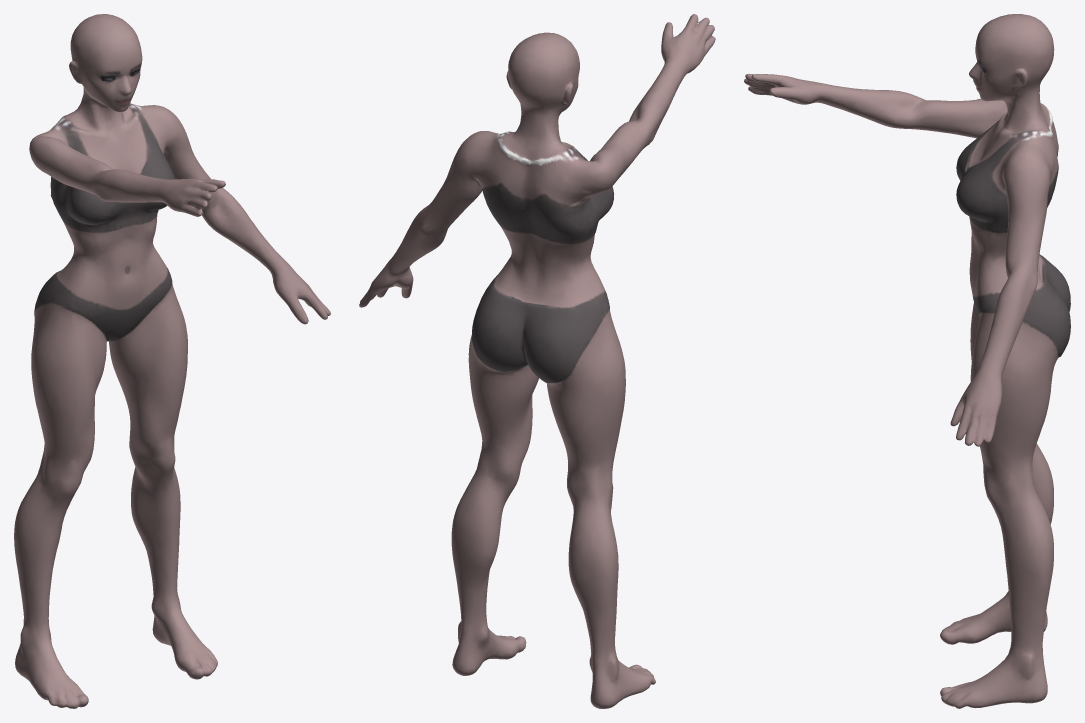
File: raw-UpperArmL-90.glb
The picture shows the model from 3 angles, left to right: view 1: azimuth 30°, elevation 25°; view 2: azimuth 150°, elevation 25°; view 3: azimuth 270°, elevation 25°; orthographic projection.
Visible parts, largest first — view 1: raw-UpperArmL-90; view 2: raw-UpperArmL-90; view 3: raw-UpperArmL-90.
Part boxes in pixels (bbox=[...]): raw-UpperArmL-90: bbox=[14, 14, 330, 708]; raw-UpperArmL-90: bbox=[359, 14, 715, 708]; raw-UpperArmL-90: bbox=[744, 14, 1070, 708].
Size of the model in its own units: 0.4619 by 1 by 0.454.
1 material, 1 textured.
